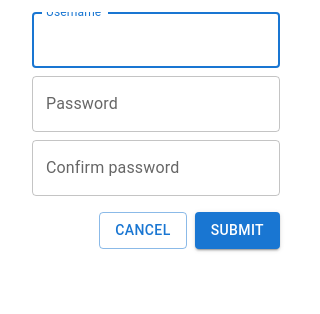
has strong password validation Password must contain at least one number
Type "No number" into the password field labelled "Password".
click(156, 104); type("No number")  # box [32, 76, 280, 132]
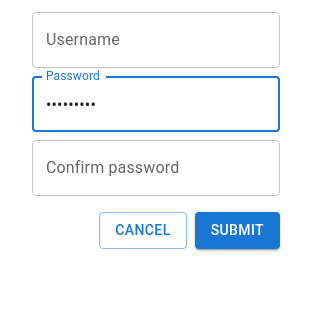
Click the button "Submit".
click(237, 230)  # box [195, 212, 280, 248]
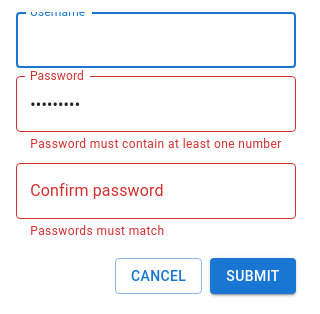
Now the text "Password must contain at least one number" is shown, box [30, 135, 282, 155]
